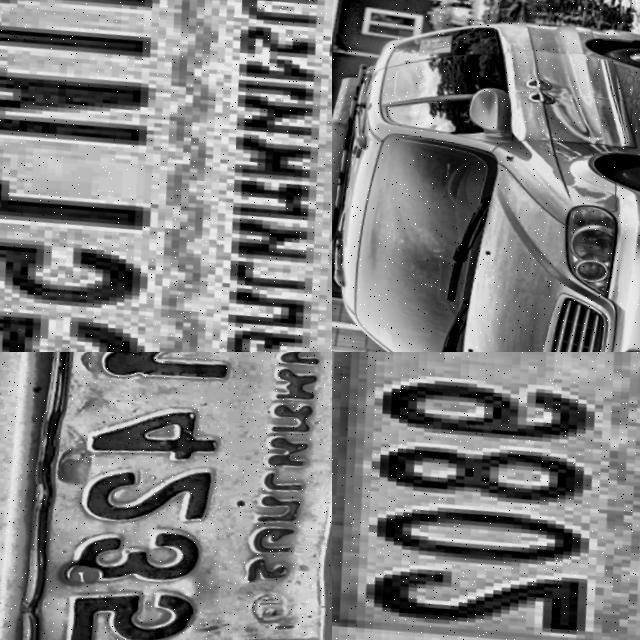license-plate: (0, 0, 332, 352), (0, 352, 332, 640), (332, 352, 640, 640)
